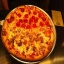pepperoni: (17, 19, 39, 29), (31, 11, 40, 20)
pizza: (1, 7, 54, 58)
